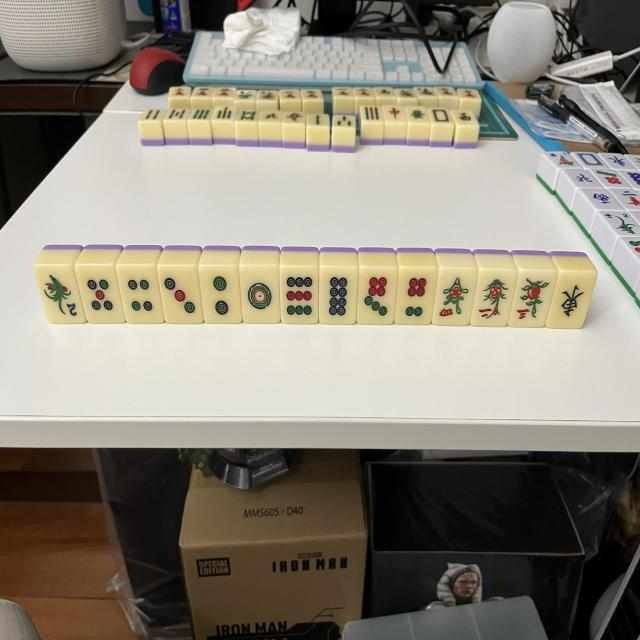east: (546, 271, 596, 329)
f2: (35, 266, 86, 324)
ff2: (470, 270, 514, 327)
ff3: (509, 273, 557, 329)
ff4: (433, 271, 477, 327)
t1: (241, 267, 282, 323)
t2: (198, 267, 242, 323)
t3: (159, 267, 204, 323)
t4: (118, 266, 165, 324)
t5: (77, 267, 125, 323)
t6: (395, 269, 437, 324)
t7: (357, 268, 399, 324)
t8: (320, 269, 358, 323)
t9: (280, 268, 318, 324)
